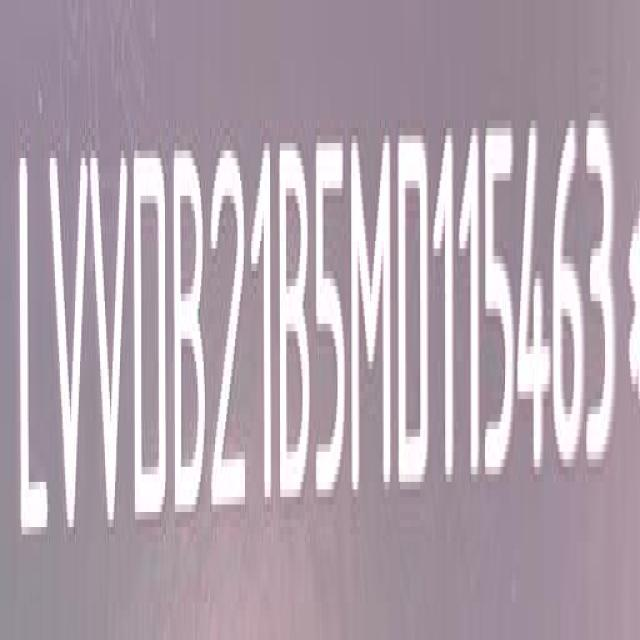1: (253, 138, 277, 522), (434, 124, 457, 494), (459, 122, 480, 490)
2: (210, 142, 249, 524)
3: (588, 117, 619, 481)
4: (519, 116, 552, 487)
5: (315, 131, 348, 512), (482, 120, 516, 488)
6: (554, 119, 586, 481)
B: (175, 142, 211, 530), (280, 139, 314, 517)
D: (132, 143, 168, 536), (398, 125, 433, 498)
L: (13, 142, 47, 558)
M: (350, 126, 393, 504)
V: (90, 141, 132, 542), (49, 145, 88, 553)
